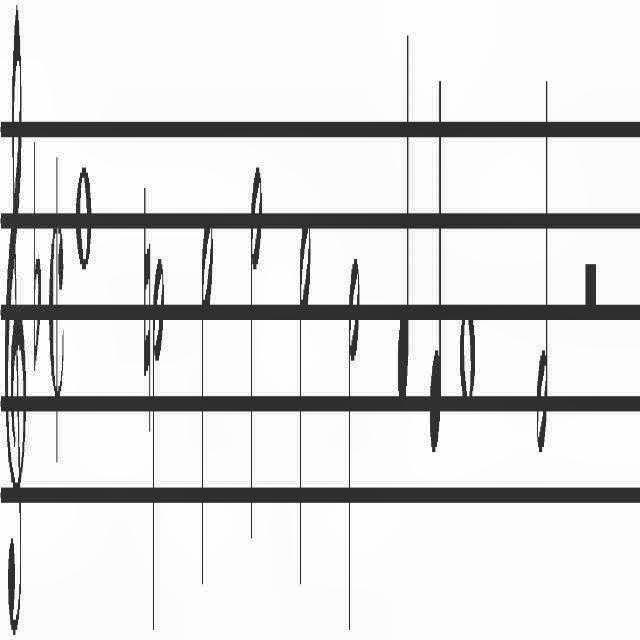Bass-clef: (5, 0, 27, 640)
Bemol: (32, 132, 44, 366)
Full-note: (458, 304, 478, 416), (76, 159, 92, 271)
Half-note: (249, 152, 263, 566), (535, 64, 549, 460), (298, 216, 312, 600), (201, 220, 215, 600), (152, 248, 164, 640), (348, 248, 360, 640)
Quarter-note: (398, 28, 410, 420), (430, 74, 442, 464)
